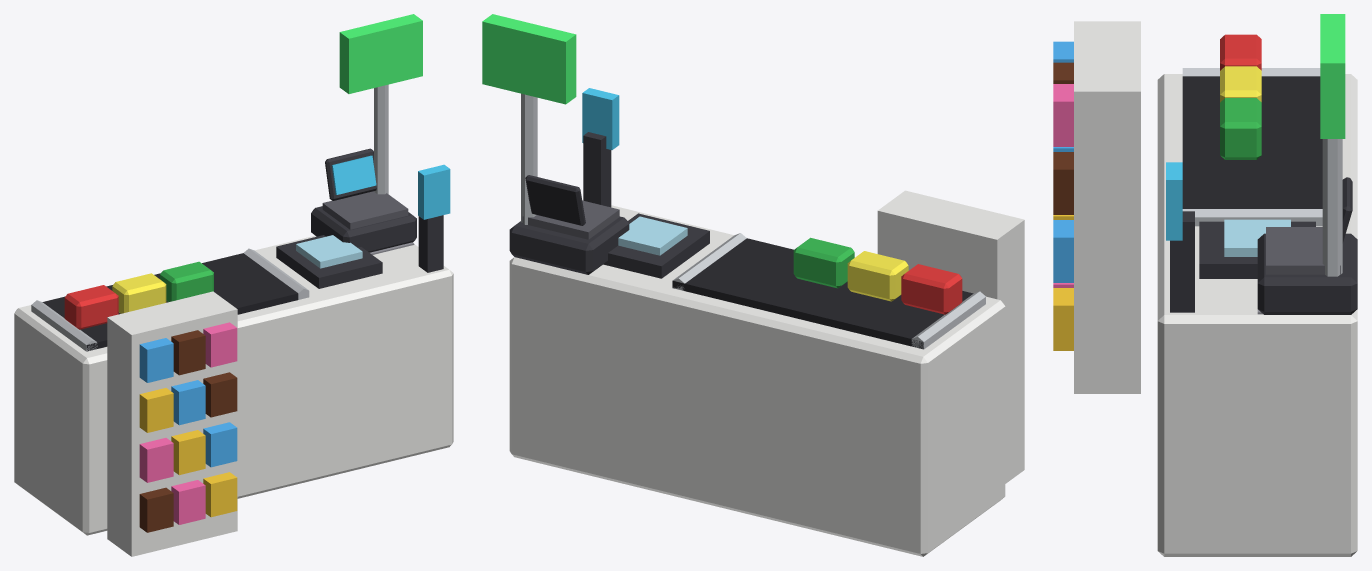
Rendered from CheckoutLane.fbx.
3 renders of one model, left to right at view 1: azimuth 30°, elevation 25°; view 2: azimuth 150°, elevation 25°; view 3: azimuth 270°, elevation 25°, orthographic. The views are drawn at different scales.
Parts seen in each view (by area): view 1: CheckoutLane; view 2: CheckoutLane; view 3: CheckoutLane.
Part boxes in pixels (x1,y1,x2,y2): CheckoutLane: (14, 14, 453, 556); CheckoutLane: (482, 14, 1024, 556); CheckoutLane: (1053, 14, 1357, 556).
Bounding box in the file's own units: 7.5 × 6.8 × 3.65.
Materials: 1 (1 with a texture image).
